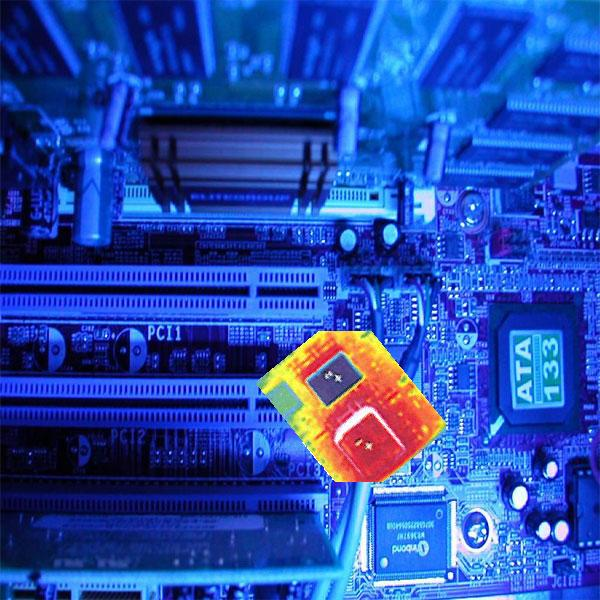componente_T: (255, 328, 449, 485)
